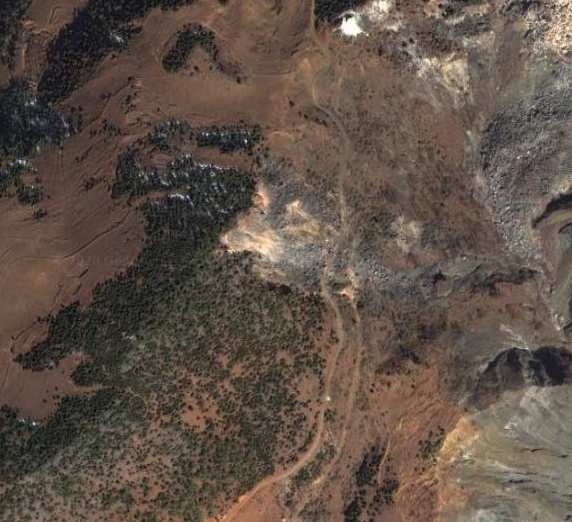slope: (219, 156, 408, 306), (340, 1, 496, 143), (410, 402, 482, 515)
